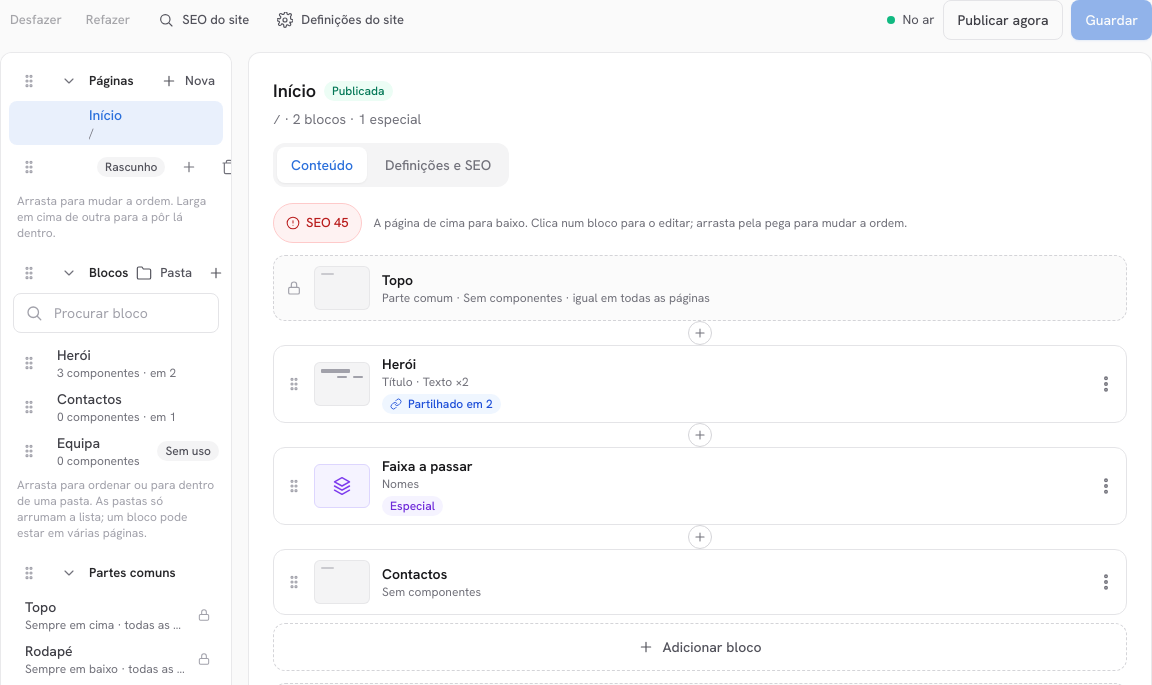
Paginas · editor de bloco (F14) › Adicionar componente: o novo traz o valor por omissão (título H2) e abre
Click the button with aria-label "Editar Contactos" at (342, 582), box [314,550,1086,614]
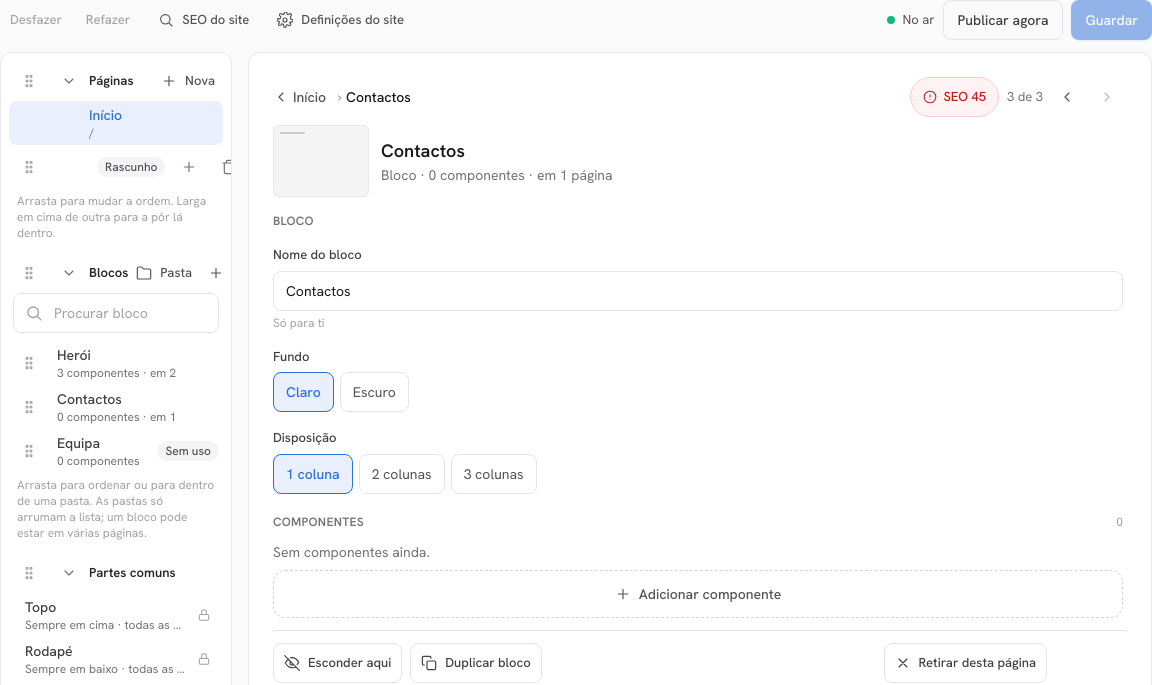
Click the button "Adicionar componente" at (698, 594), box [273,570,1123,618]
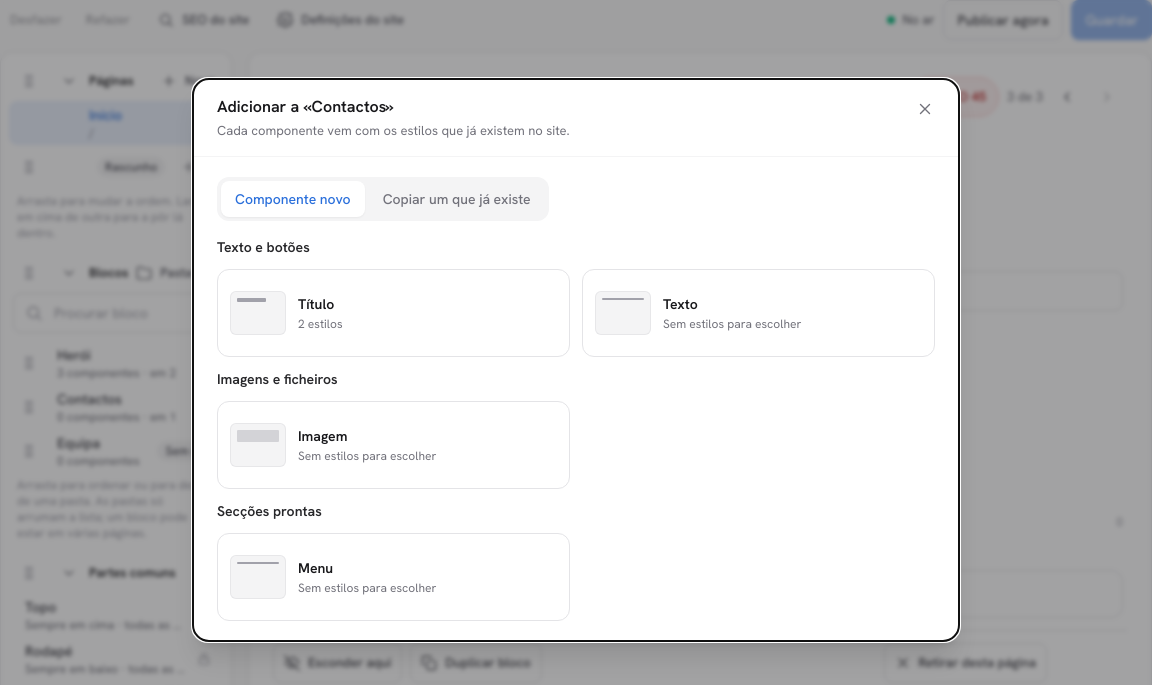
Click the button "Título 2 estilos" at (258, 313), box [217,269,570,357]
(page scrolled)
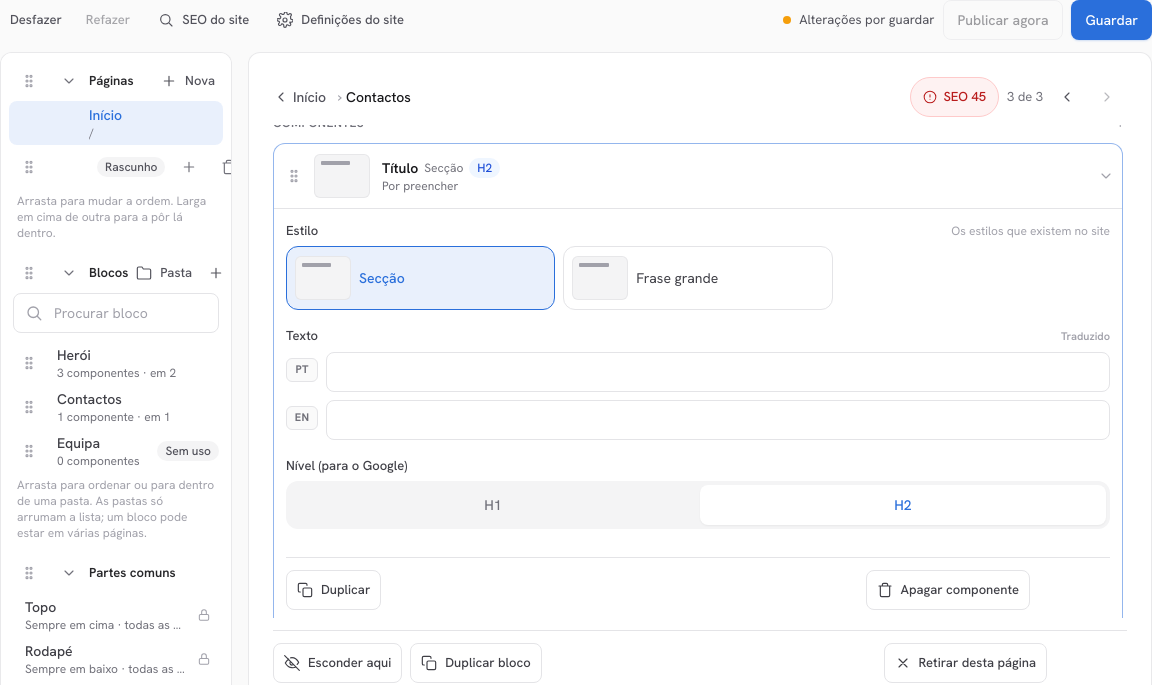
Now the dialog is gone
Now the text "H2" is shown 2 times, box [469,158,500,178]; [700,485,1106,525]
Now the field named "Texto (PT)" is shown, box [326,352,1110,392]
